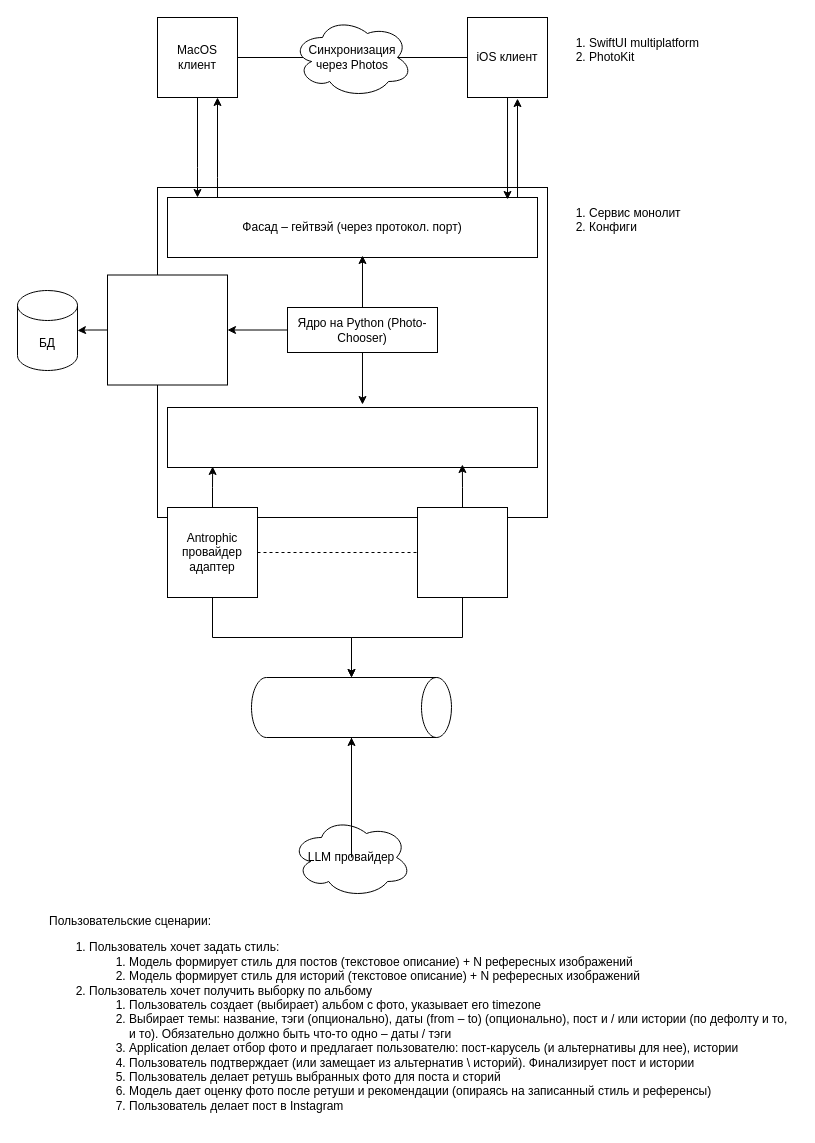
The diagram is 815 pixels wide and 1143 high, and some of its shapes have lost their labels. The shapes that lost their labels are listed below. From the top down, each one's centre as x and y in pixels, then its label:
At (167,329): "БД провайдер адаптер".
At (352,437): "Адаптер на провайдеры LLM (через протокол. порт)".
At (462,552): "DeepSeek провайдер (в будущем) адаптер".
At (351,707): "Очередь".
